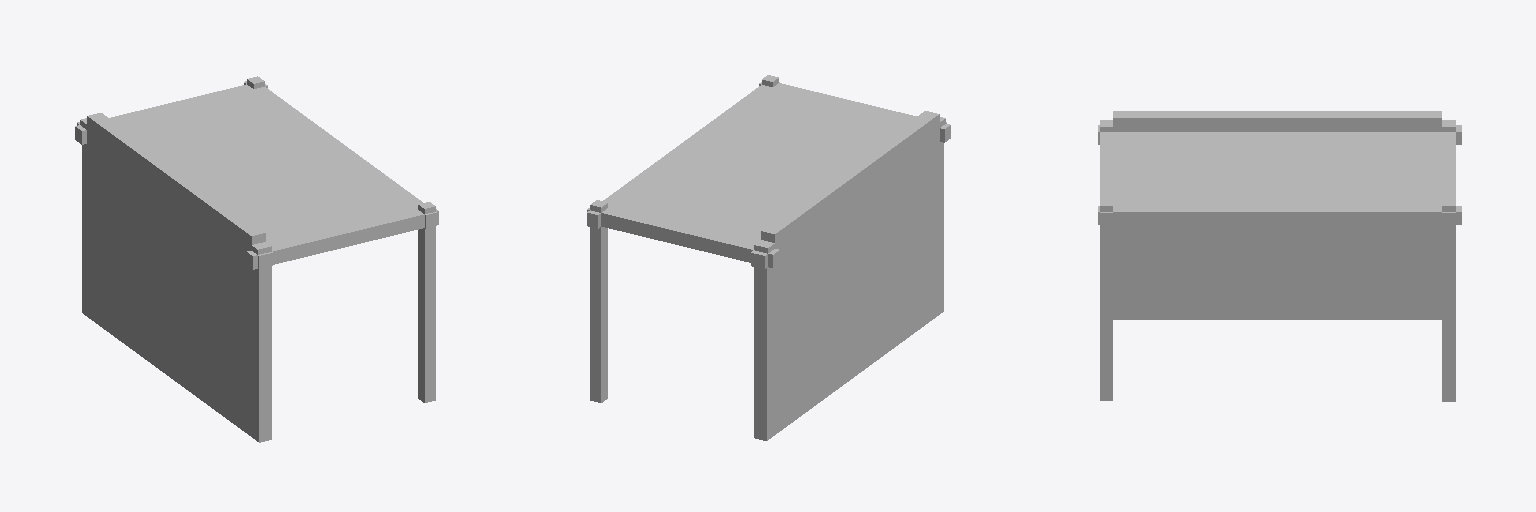
File: mesabonita.obj
3 renders of one model, left to right at view 1: azimuth 30°, elevation 25°; view 2: azimuth 150°, elevation 25°; view 3: azimuth 270°, elevation 25°, orthographic.
Visible parts, largest first — view 1: Cube.001, Cube; view 2: Cube.001, Cube; view 3: Cube.001, Cube.
Part boxes in pixels (x1,y1,x2,y2): Cube.001: (75,76,438,402); Cube: (82,144,271,442); Cube.001: (587,75,950,402); Cube: (754,142,943,440); Cube.001: (1098,111,1461,401); Cube: (1113,225,1441,319).
Size of the model in its own units: 9.29 by 9.76 by 15.76.